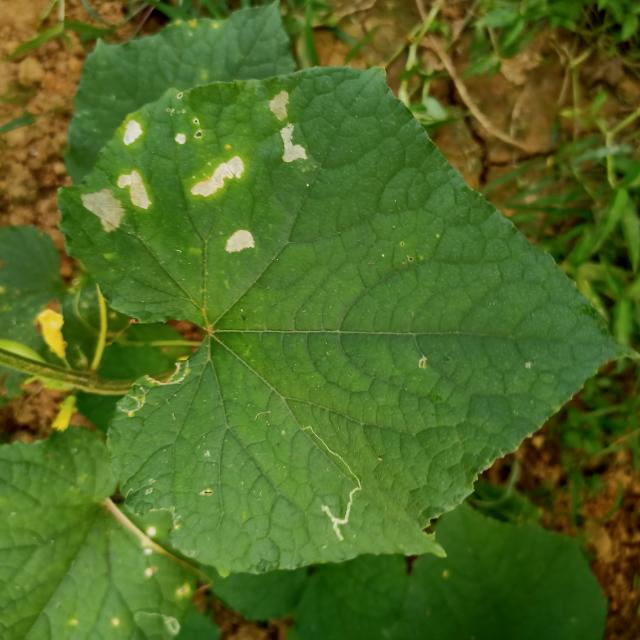disease_cucumber: (79, 110, 155, 232), (167, 116, 246, 204), (263, 81, 311, 168), (222, 220, 257, 260)
